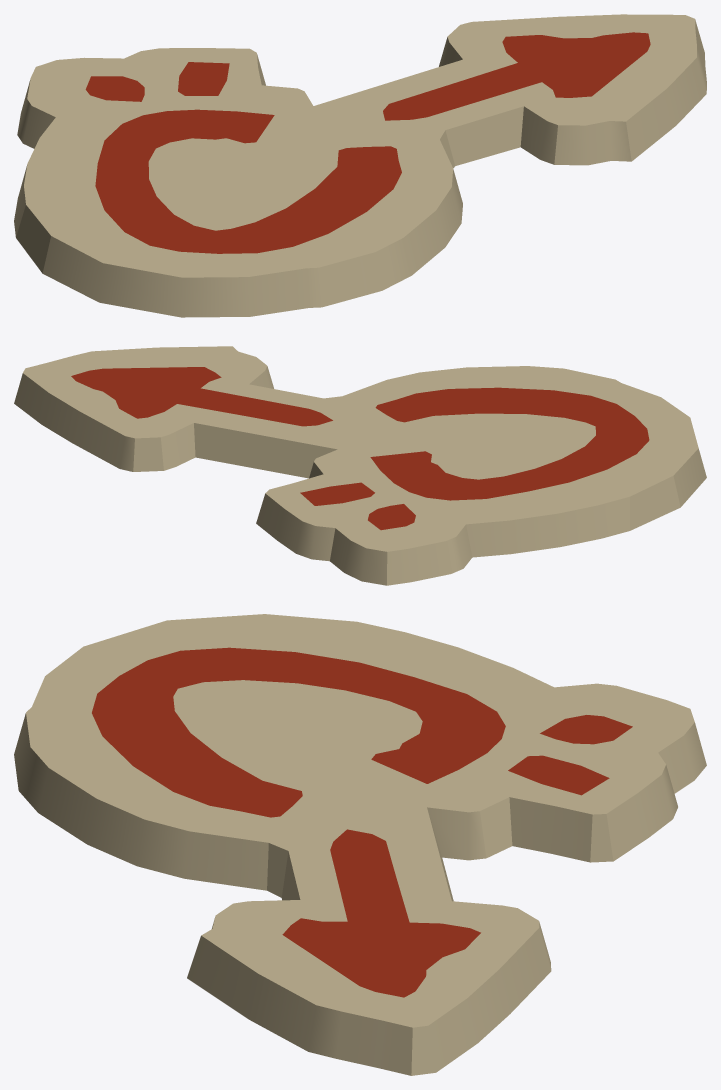
The model's file is DE_Guide_C_04.fbx.
The picture shows the model from 3 angles, top to bottom: view 1: azimuth 30°, elevation 25°; view 2: azimuth 150°, elevation 25°; view 3: azimuth 270°, elevation 25°; orthographic projection. The views are drawn at different scales.
Visible parts, largest first — view 1: DE_Guide_C_04; view 2: DE_Guide_C_04; view 3: DE_Guide_C_04.
Part boxes in pixels (bbox=[...]): DE_Guide_C_04: bbox=[14, 14, 706, 317]; DE_Guide_C_04: bbox=[14, 346, 706, 585]; DE_Guide_C_04: bbox=[14, 614, 706, 1075].
Bounding box in the file's own units: 170 × 8.1 × 117.
